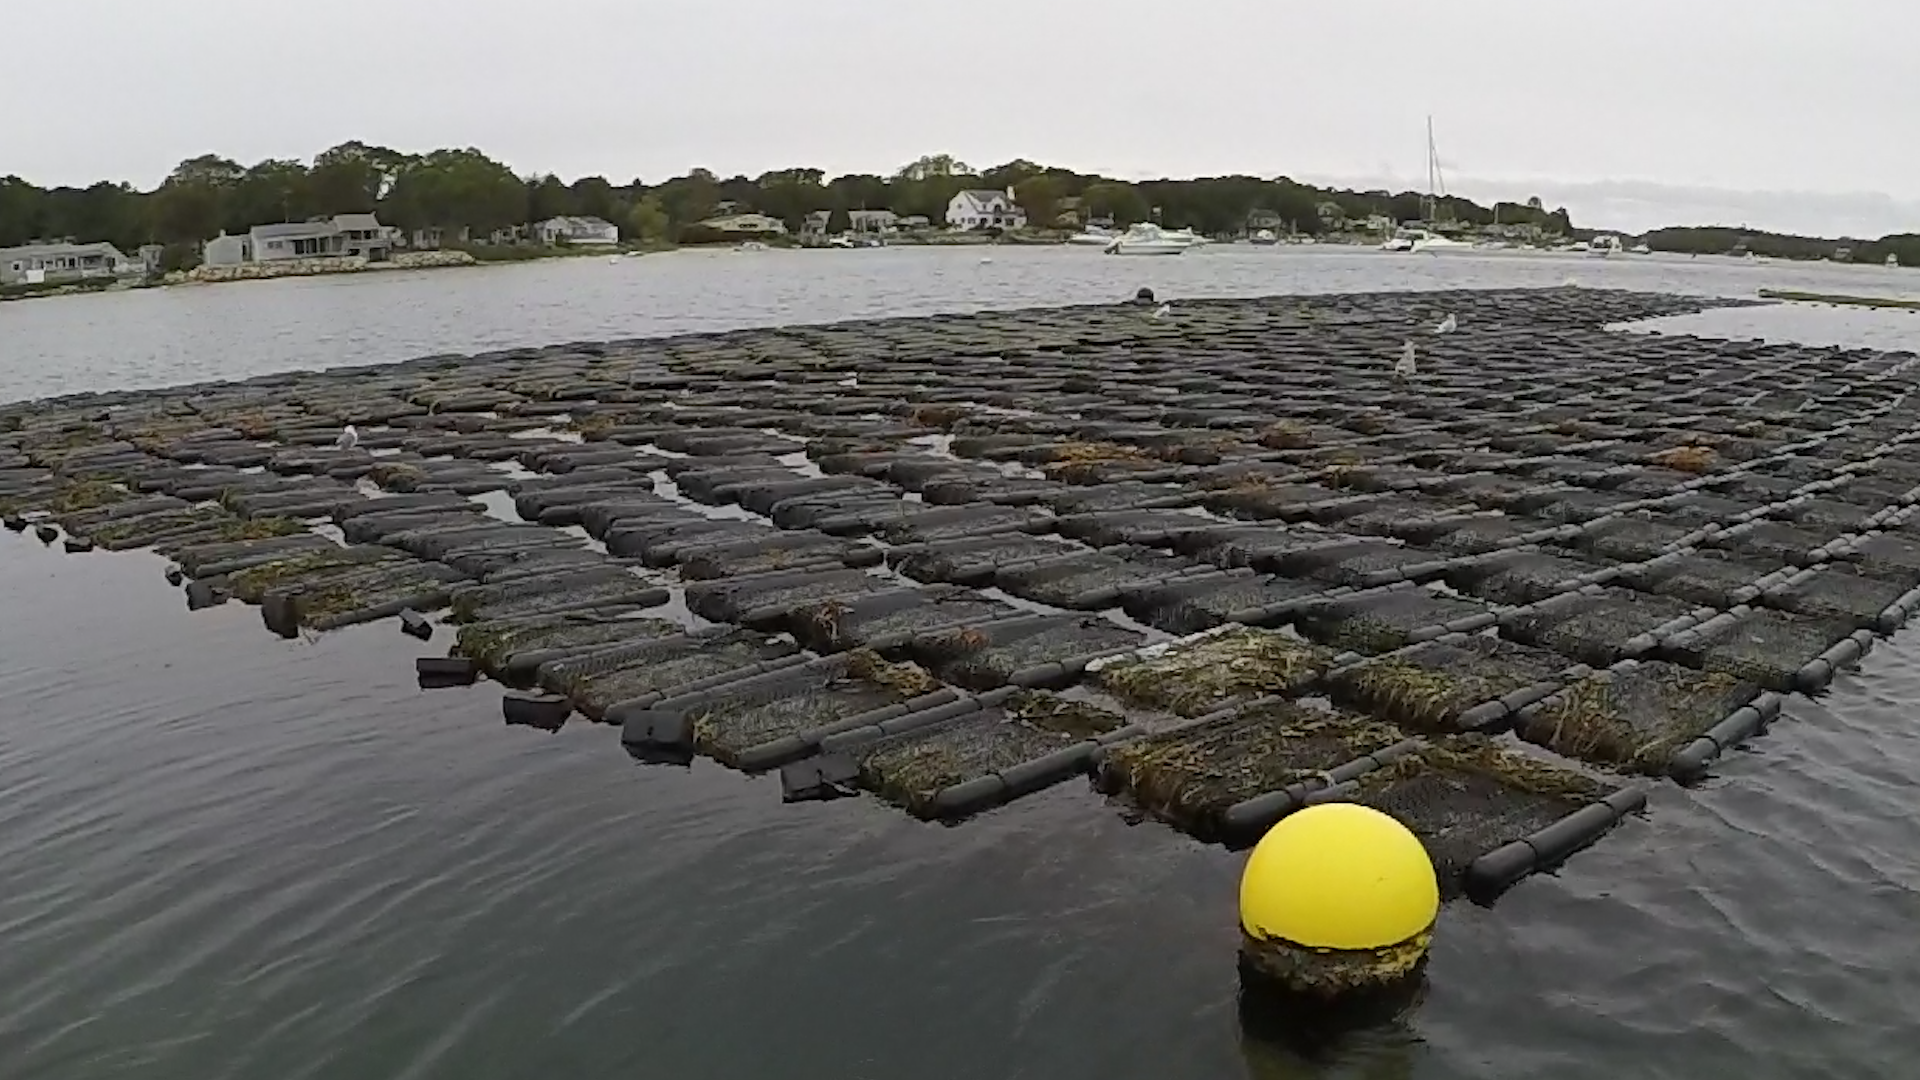bag: (814, 680, 1122, 828), (1088, 694, 1415, 827)
